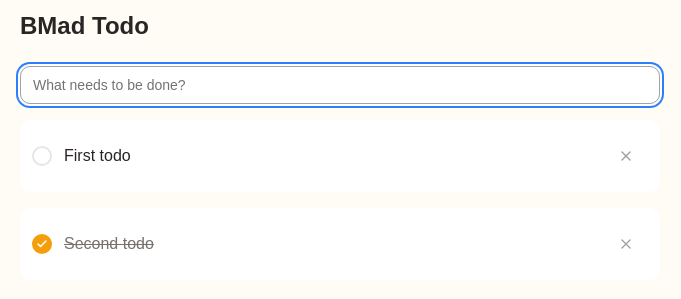
Test: App › shows create error message on mutation failure
The width and height of the screenshot is (681, 299).
Expected: the text "First todo" is shown, [64, 147, 131, 164]
Type "Fail todo" into the field at (340,85), box [20, 66, 660, 104]
Then press Enter
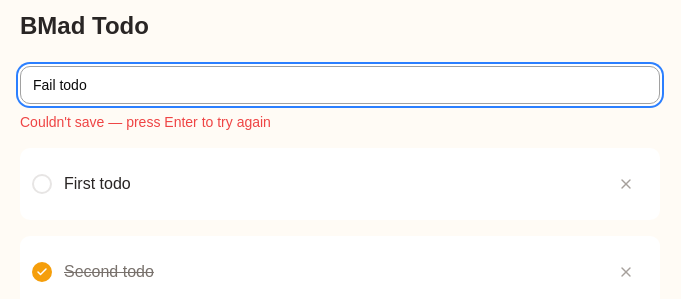
Now the text "Couldn't save — press Enter to try again" is shown, box [20, 114, 271, 130]
